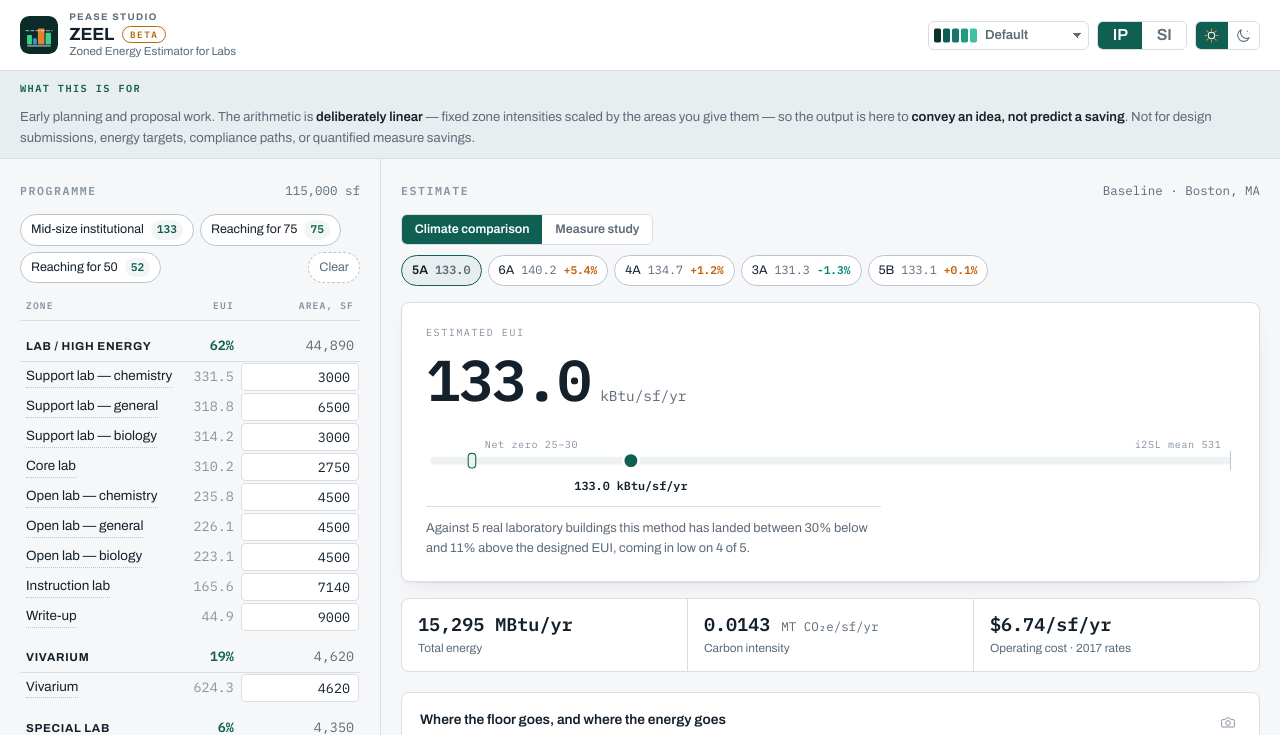
Scenario: editing › keeps the field the user is typing in, and updates the estimate
Clear the field named "Vivarium area, sf" at (300, 688), box x1=241 y1=674 x2=359 y2=702
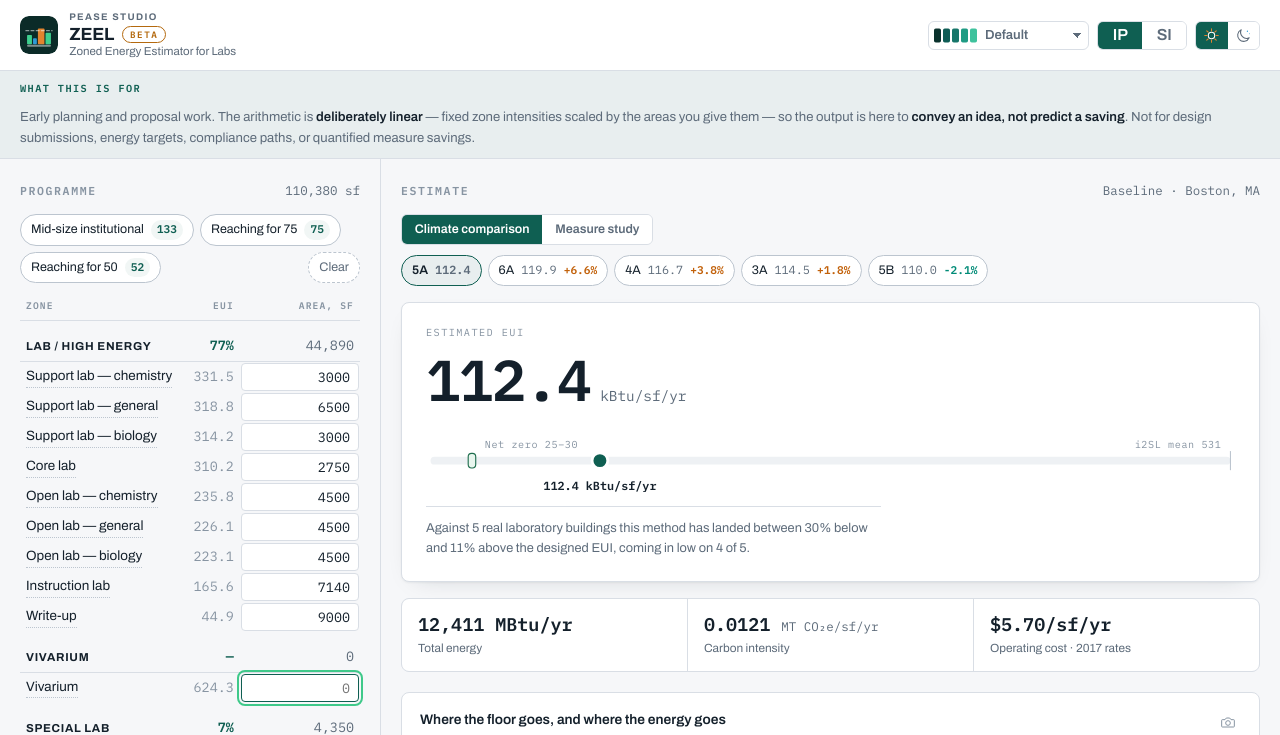
Now the element with class "headline__value" shows "112.4", box x1=426 y1=342 x2=590 y2=417
Type "9240" into the field with placeholder "0" at (300, 688), box x1=241 y1=674 x2=359 y2=702
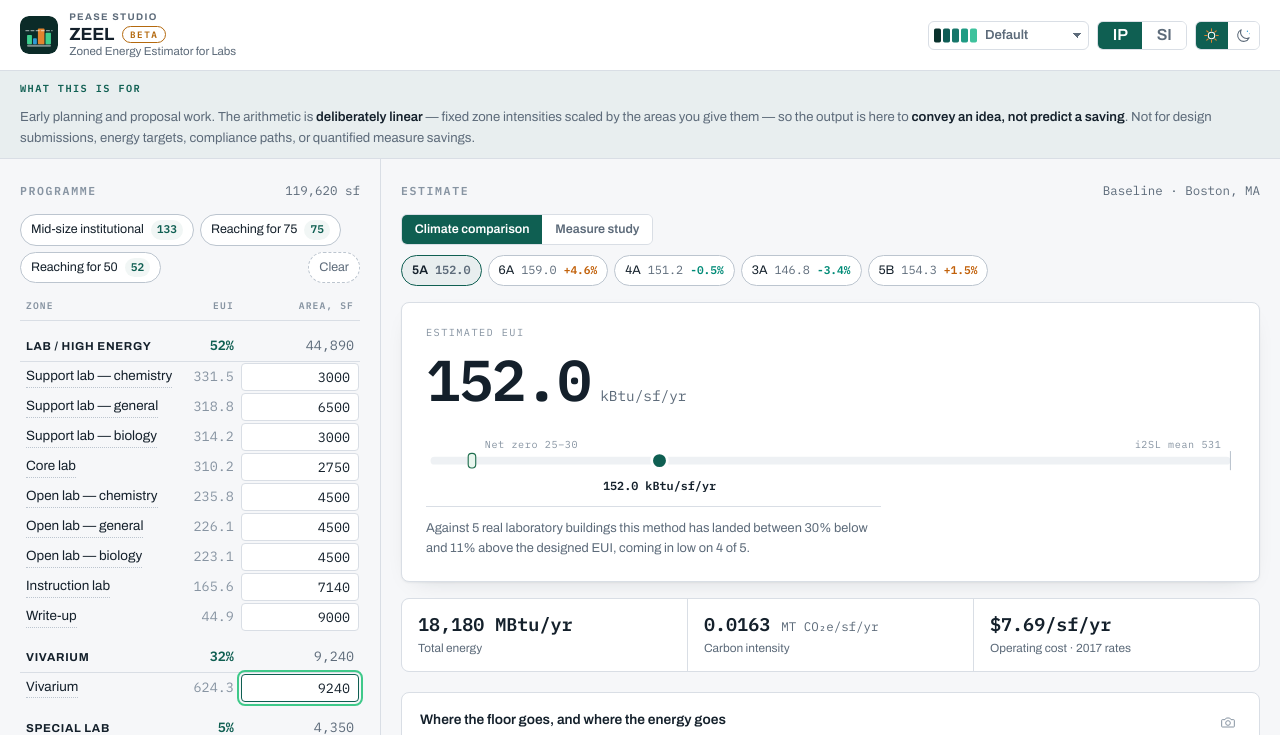
Now the element with class "headline__value" shows "152.0", box x1=426 y1=342 x2=590 y2=417
